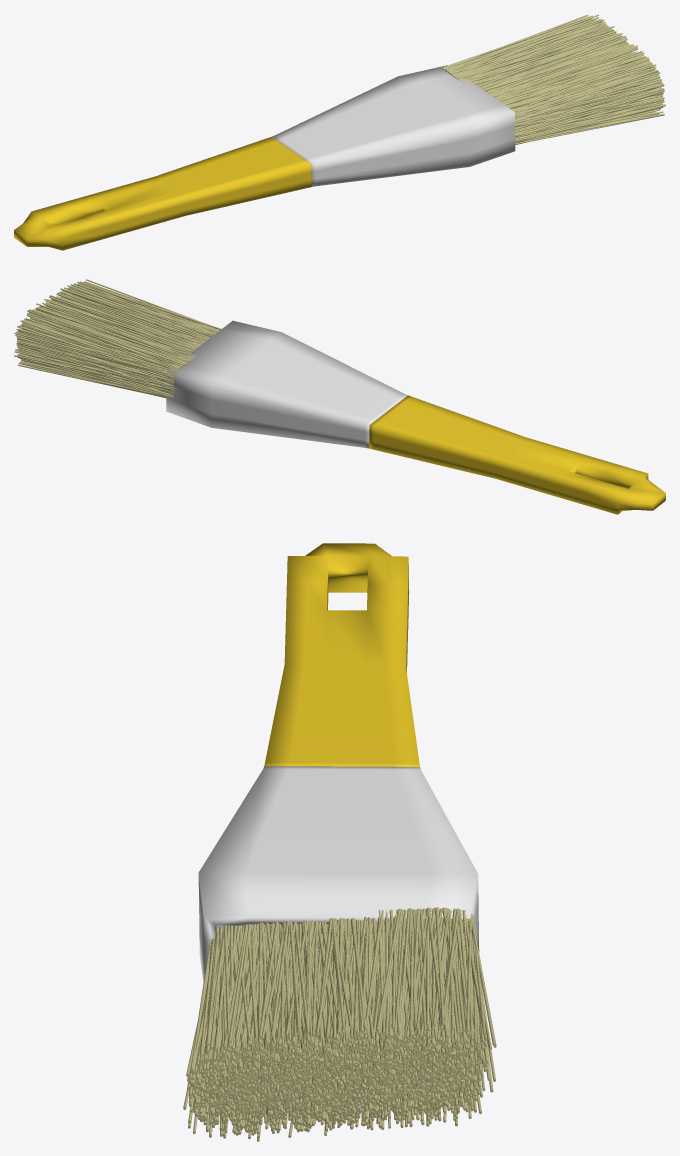
The model's file is 小刷子.fbx.
The picture shows the model from 3 angles, top to bottom: view 1: azimuth 30°, elevation 25°; view 2: azimuth 150°, elevation 25°; view 3: azimuth 270°, elevation 25°; orthographic projection. The views are drawn at different scales.
Parts seen in each view (by area): view 1: Brush Hair; view 2: Brush Hair; view 3: Brush Hair.
Part boxes in pixels (x1,y1,x2,y2): Brush Hair: (14,14,665,250); Brush Hair: (14,279,665,514); Brush Hair: (183,543,496,1141).
Size of the model in its own units: 19.89 by 2.14 by 4.45.
